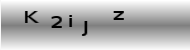2: (50, 14, 63, 29)
J: (81, 20, 88, 36)
K: (23, 10, 39, 24)
i: (68, 15, 73, 28)
z: (111, 9, 125, 21)
